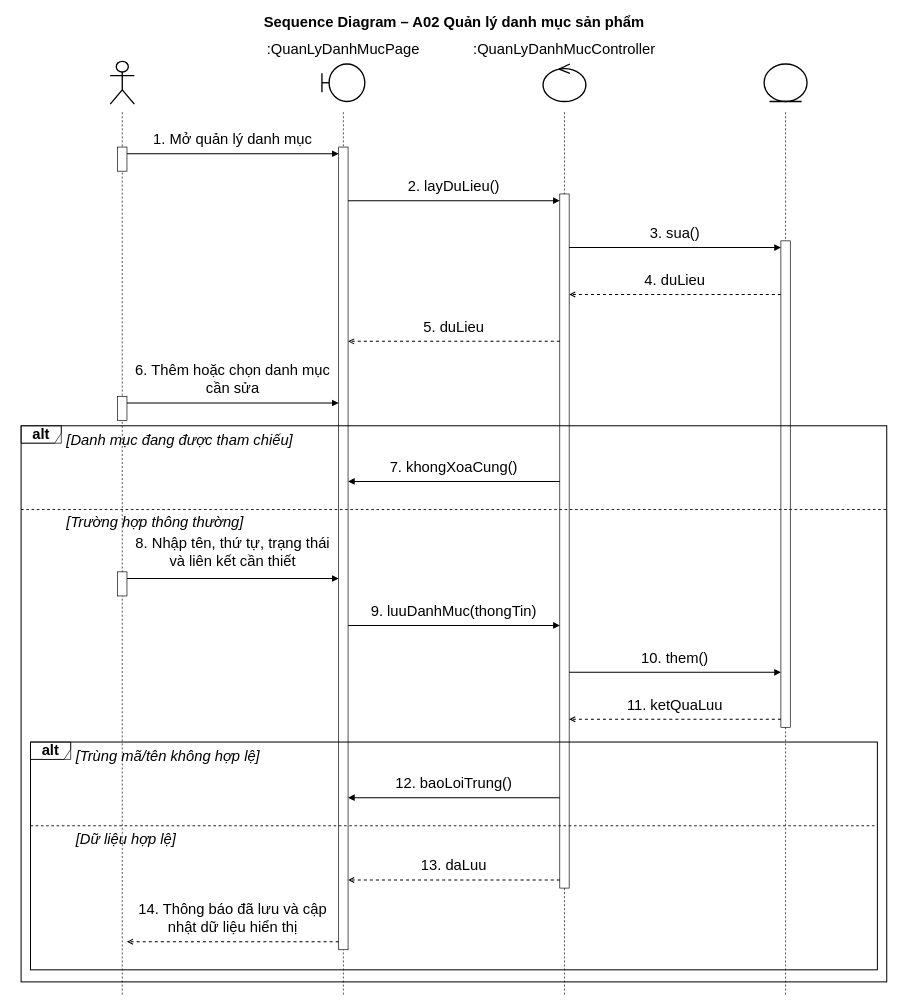
The diagram is 907 pixels wide and 1008 high, and some of its shapes have lost their labels. Here are the shapes that lost their labels. From the top down, the centre of each, then its label:
At (122,82): ":Quản trị viên".
At (785,82): ":DanhMuc".
